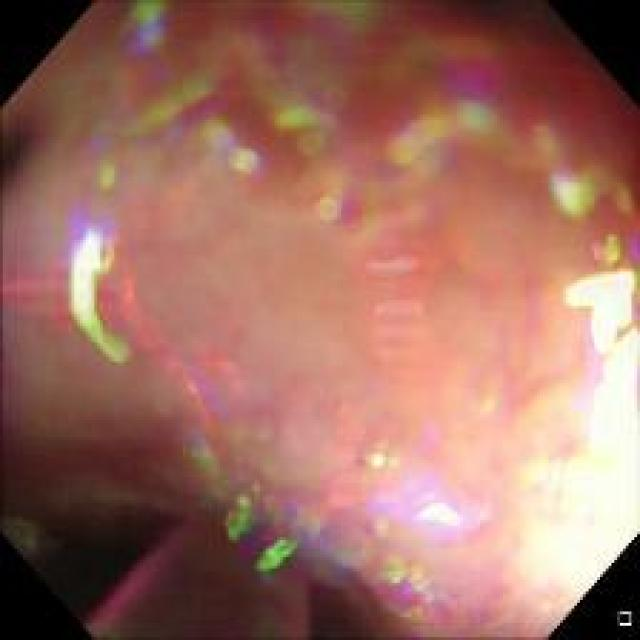color misalignment: (4, 258, 210, 420), (239, 26, 352, 156), (356, 245, 452, 395), (90, 68, 224, 166), (66, 199, 128, 365), (364, 474, 494, 544), (300, 512, 376, 602), (438, 50, 509, 146), (192, 325, 262, 418), (550, 160, 635, 226), (379, 108, 456, 180), (196, 114, 271, 186), (304, 178, 379, 238), (376, 551, 439, 620), (182, 428, 228, 510), (305, 1, 394, 41), (120, 0, 175, 59), (8, 499, 52, 559), (255, 526, 295, 576), (219, 486, 254, 539), (584, 229, 630, 269)
saturation: (535, 324, 639, 601)
specularity: (558, 269, 636, 350)
